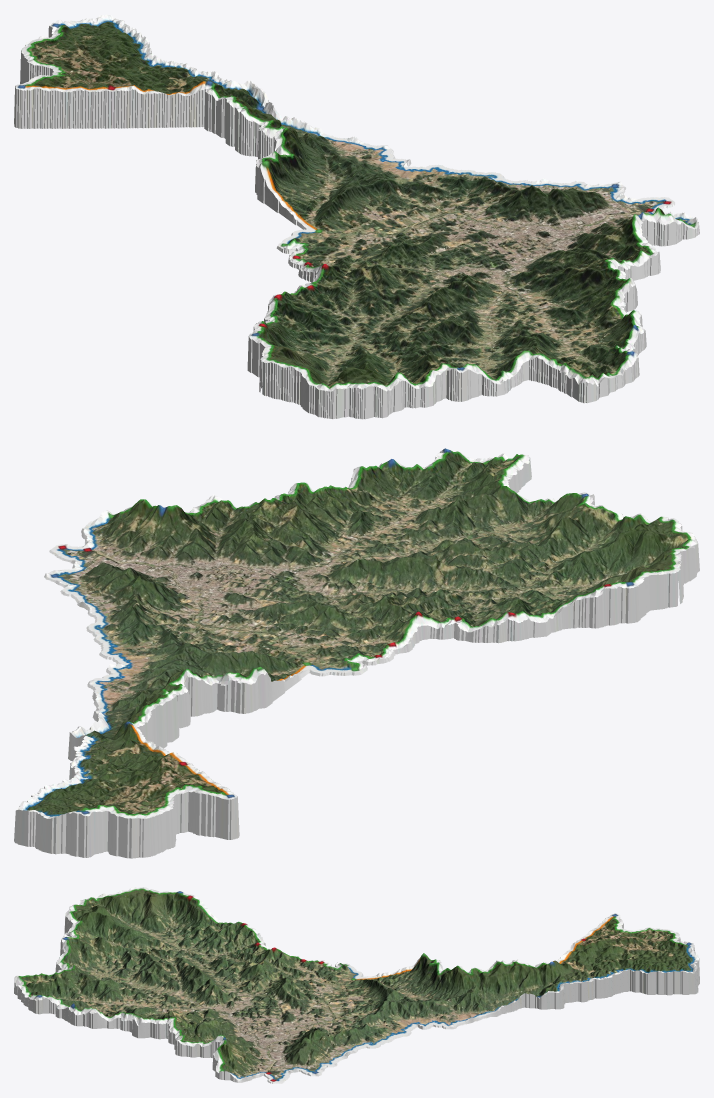
3 views of the same model, one above another, from view 1: azimuth 30°, elevation 25°; view 2: azimuth 150°, elevation 25°; view 3: azimuth 270°, elevation 25° (orthographic). The views are drawn at different scales.
Bounding box in the file's own units: 1 × 0.0802 × 1.66.
1 material, 1 textured.
